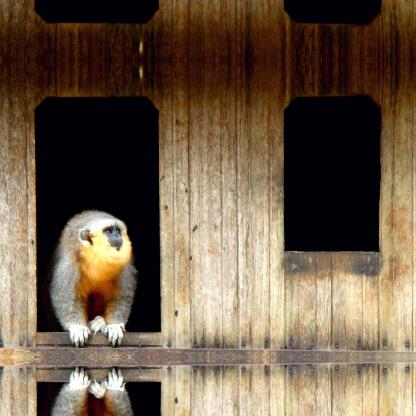Monkey: (40, 208, 138, 356), (40, 357, 139, 415)
